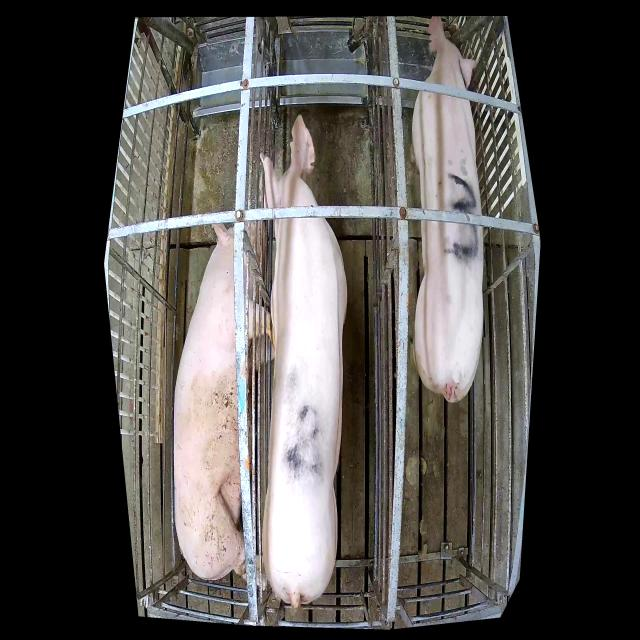pig: (260, 115, 347, 615), (174, 219, 274, 590), (406, 17, 483, 402)
